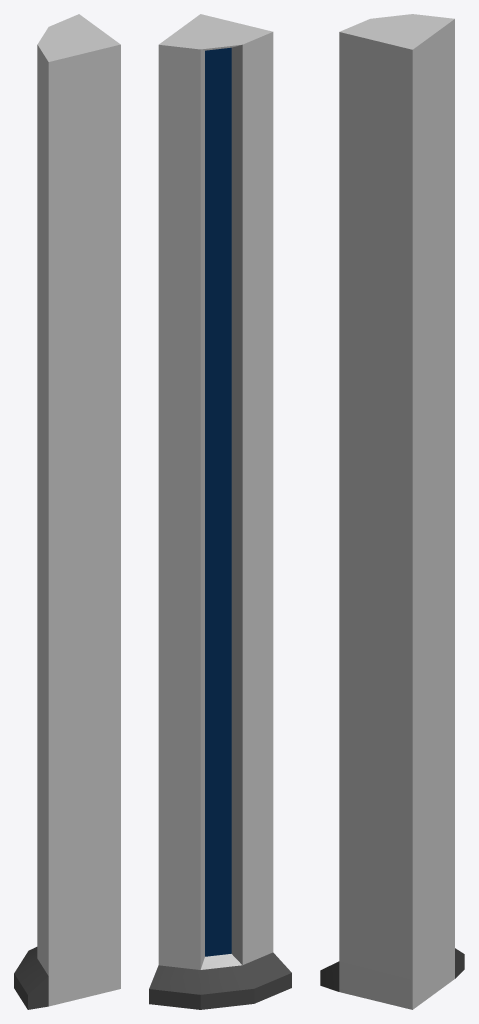
The model's file is Corner_Wall_Bottom.fbx.
3 views of the same model, side by side, from view 1: azimuth 30°, elevation 25°; view 2: azimuth 150°, elevation 25°; view 3: azimuth 330°, elevation 25° (orthographic).
Visible parts, largest first — view 1: Corner_Wall_Bottom; view 2: Corner_Wall_Bottom; view 3: Corner_Wall_Bottom.
Part boxes in pixels (x1,y1,x2,y2): Corner_Wall_Bottom: (14, 14, 120, 1009); Corner_Wall_Bottom: (149, 14, 291, 1009); Corner_Wall_Bottom: (320, 14, 464, 1009).
Size of the model in its own units: 0.2545 by 0.2545 by 2.5.
